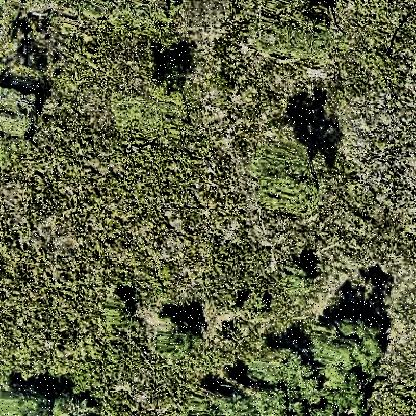tree-top: (316, 315, 392, 381), (253, 141, 317, 217), (260, 345, 324, 415), (322, 372, 374, 416), (154, 316, 202, 354), (1, 389, 50, 416), (103, 291, 137, 327)
